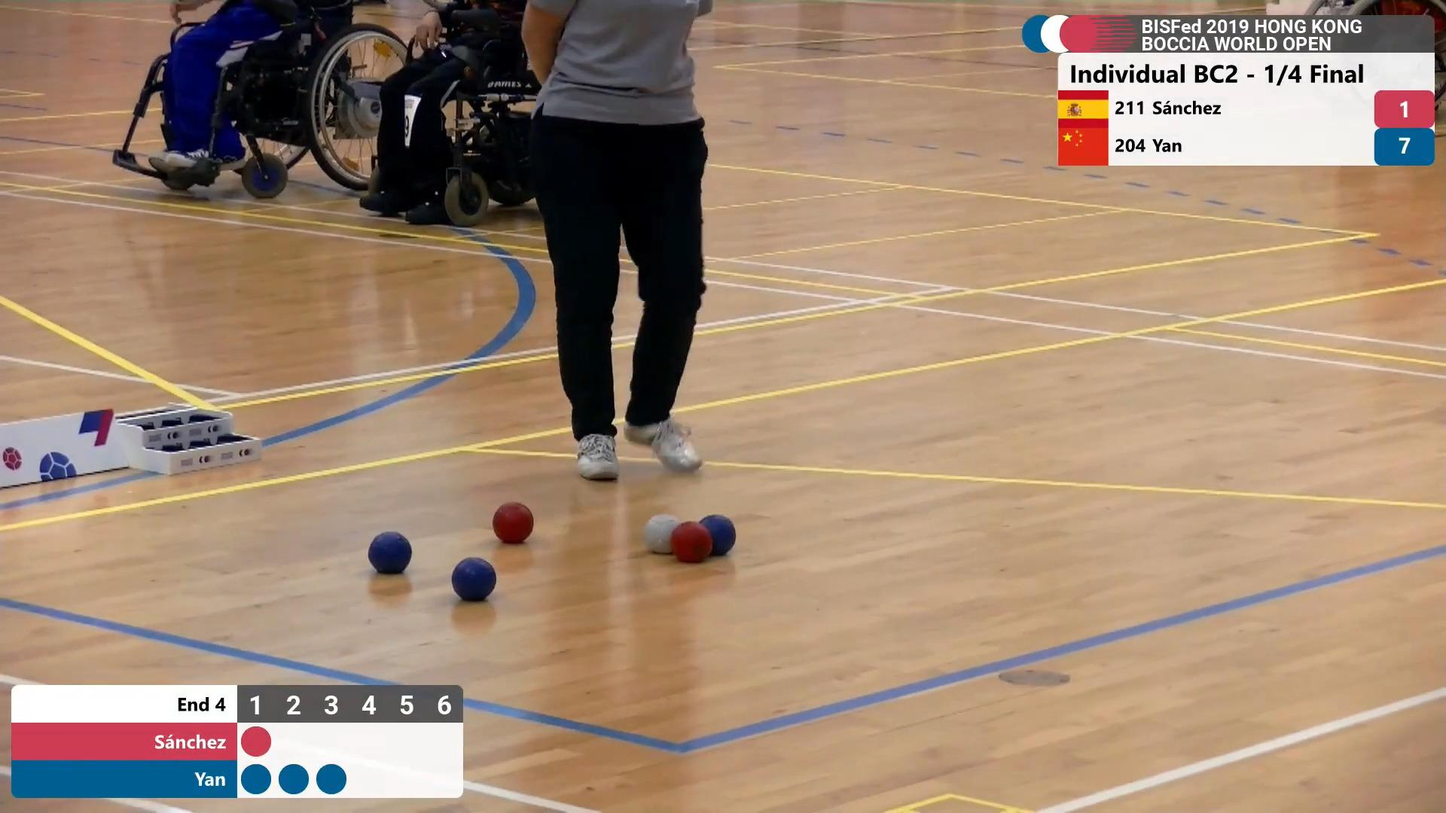blue_ball: (448, 553, 499, 604), (366, 528, 414, 576), (697, 512, 738, 561)
red_ball: (490, 500, 536, 547), (670, 520, 715, 565)
white_ball: (640, 512, 683, 558)
